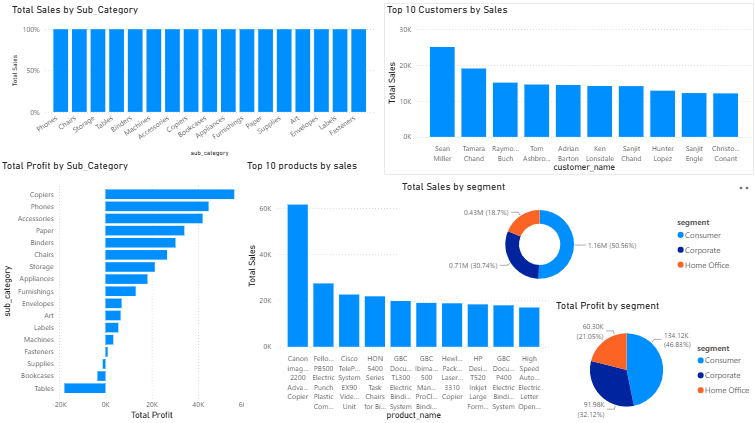

Layout of this report page (visuals, bound fields, positions):
{"tool":"powerbi","page":{"name":"Product & Customer Insights","canvas":[1280,720],"ordinal":1},"visuals":[{"type":"hundredPercentStackedColumnChart","title":"Total Sales by Sub_Category","fields":{"Y":["Measures (2).Total Sales"],"Category":["Global_Superstore_cleaned.sub_category"]},"box":[21.8,15.1,617.6,262],"z":0},{"type":"clusteredBarChart","title":"Total Profit by Sub_Category","fields":{"Category":["Global_Superstore_cleaned.sub_category"],"Y":["Measures (2).Total Profit"]},"box":[5,277.2,427.3,443.4],"z":1000},{"type":"clusteredColumnChart","title":"Top 10 products by sales","fields":{"Y":["Measures (2).Total Sales"],"Category":["Global_Superstore_cleaned.product_name"]},"box":[416.6,277.2,519.1,443.5],"z":2000},{"type":"clusteredColumnChart","title":"Top 10 Customers by Sales","fields":{"Category":["Global_Superstore_cleaned.customer_name"],"Y":["Measures (2).Total Sales"]},"box":[658.5,0,621.5,288.9],"z":3000},{"type":"donutChart","fields":{"Category":["Global_Superstore_cleaned.segment"],"Y":["Measures (2).Total Sales"]},"box":[677,312.4,569.4,186.5],"z":4000},{"type":"pieChart","fields":{"Y":["Measures (2).Total Profit"],"Category":["Global_Superstore_cleaned.segment"]},"box":[935.6,512.3,344.4,208.3],"z":5000}]}

Visuals, with their boxes in screenshot pixels (x1, y1, x2, y2), scaled from the page's 1280x720 canvas onto the 755x423 screenshot:
"Total Sales by Sub_Category" hundredPercentStackedColumnChart: (13, 9, 377, 163)
"Total Profit by Sub_Category" clusteredBarChart: (3, 163, 255, 422)
"Top 10 products by sales" clusteredColumnChart: (246, 163, 552, 422)
"Top 10 Customers by Sales" clusteredColumnChart: (388, 0, 754, 170)
donutChart - Global_Superstore_cleaned.segment x Measures (2).Total Sales: (399, 184, 735, 293)
pieChart - Measures (2).Total Profit x Global_Superstore_cleaned.segment: (552, 301, 754, 422)
